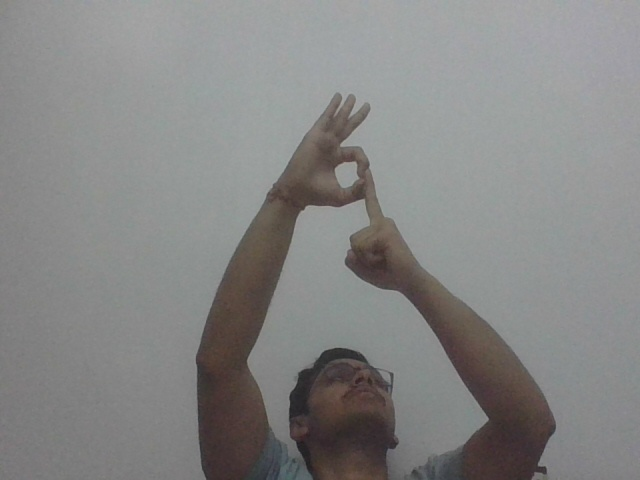P: (297, 88, 411, 292)
